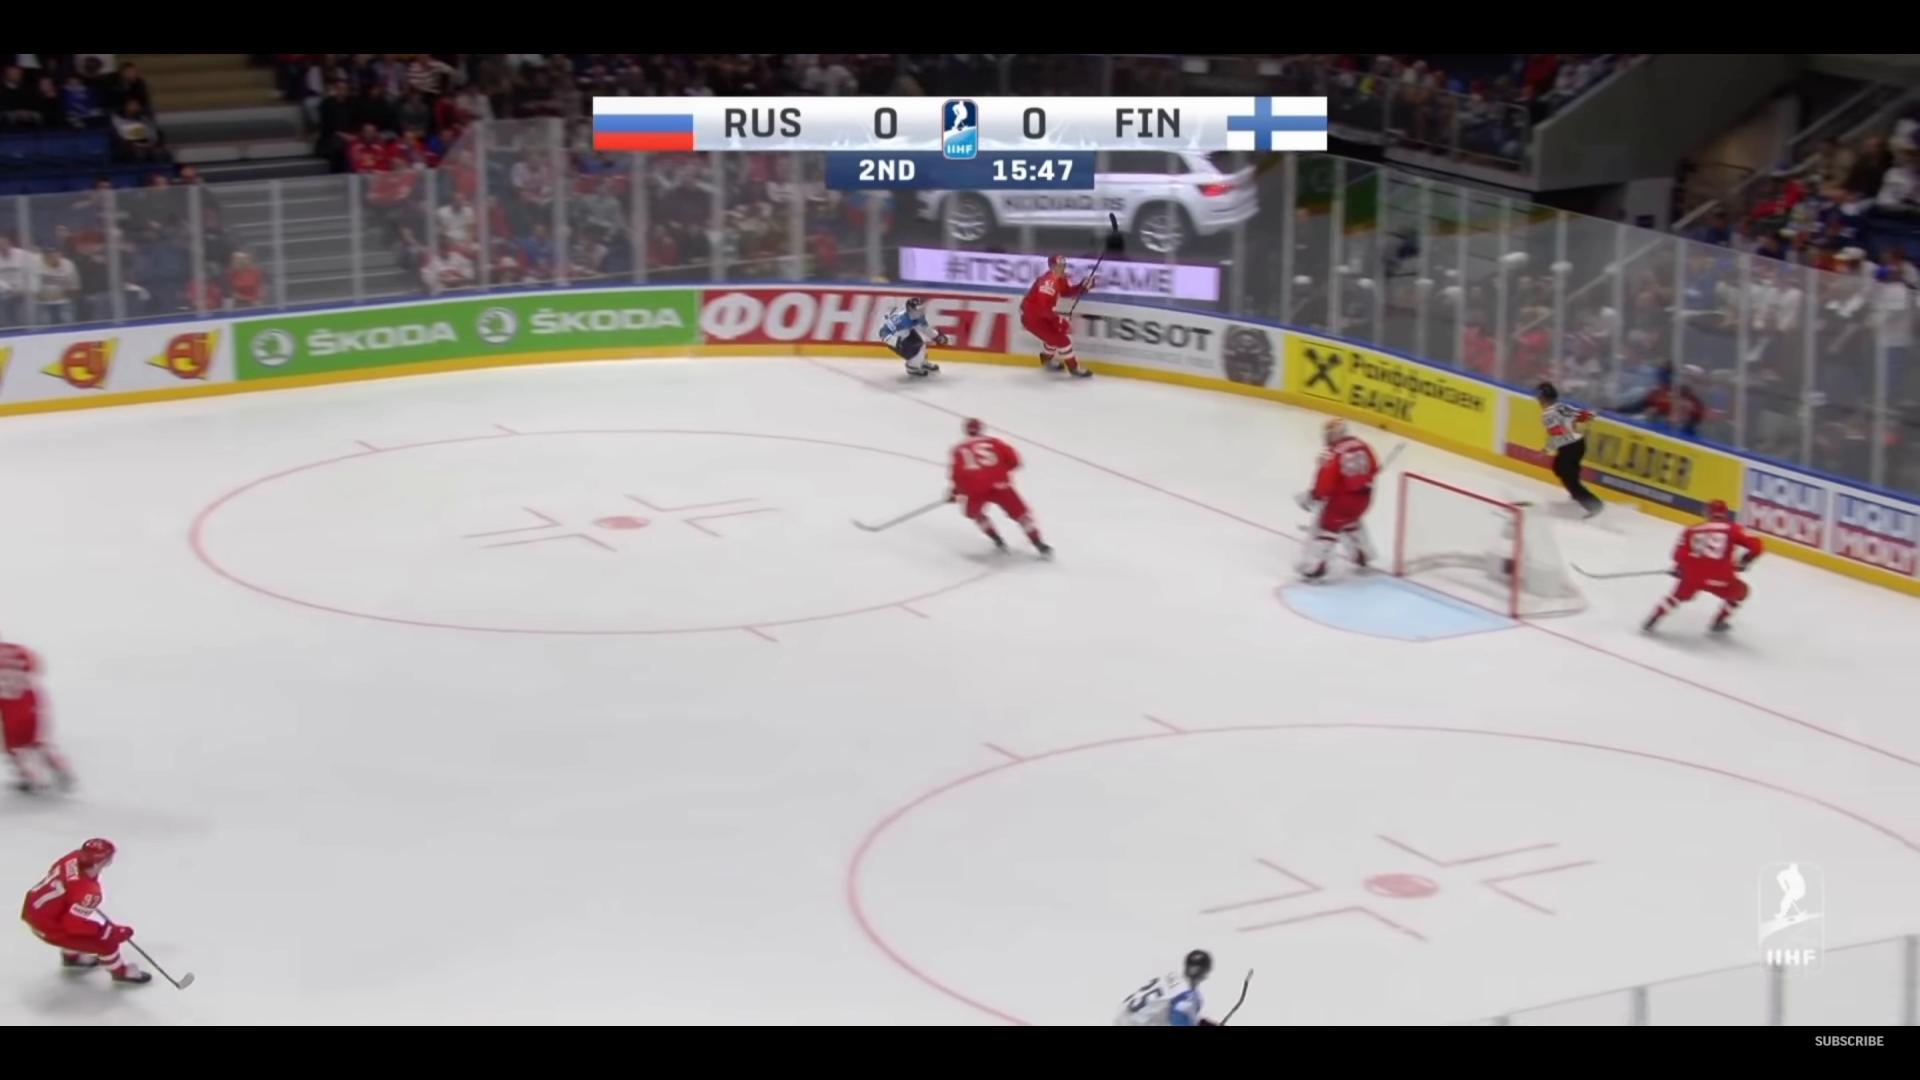puck: (1378, 422, 1387, 430)
